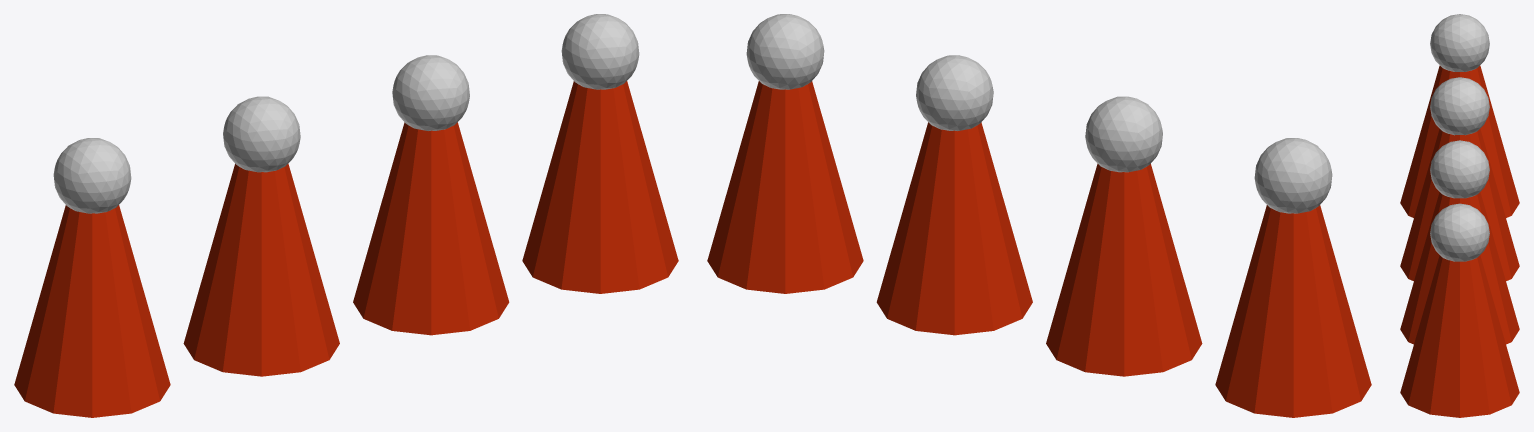
File: cones.obj
3 renders of one model, left to right at view 1: azimuth 30°, elevation 25°; view 2: azimuth 150°, elevation 25°; view 3: azimuth 270°, elevation 25°, orthographic. The views are drawn at different scales.
Parts seen in each view (by area): view 1: Cone; view 2: Cone; view 3: Cone.
Boxes of the visible parts, <box> form: Cone: <box>14,14,678,417</box>; Cone: <box>707,14,1371,417</box>; Cone: <box>1400,14,1519,417</box>.
Bounding box in the file's own units: 0.855 × 0.3095 × 0.18.
